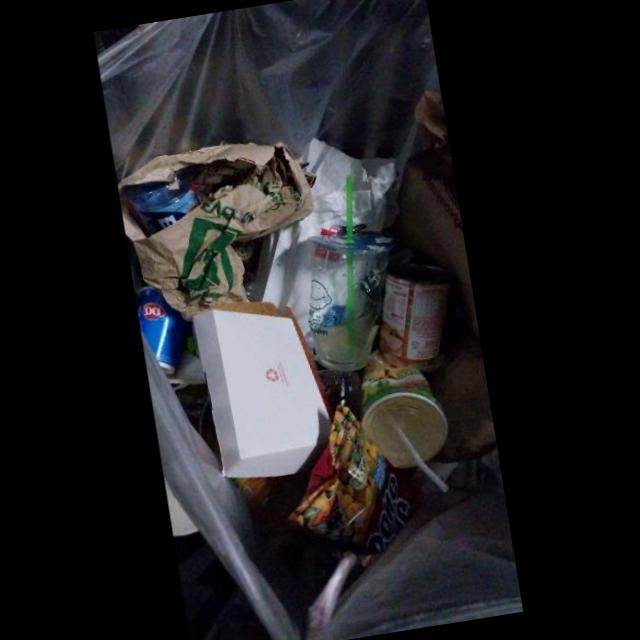bao_bi_thuc_pham: (289, 405, 411, 553)
carton: (192, 302, 332, 481)
nhom: (380, 264, 452, 362)
ong_hut_nhua: (384, 411, 448, 492), (346, 173, 355, 352)
